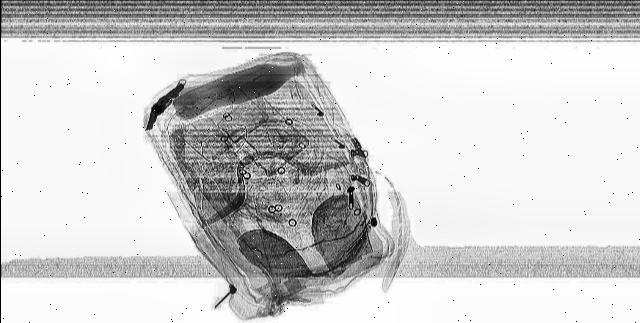Gun: (136, 78, 188, 132)
